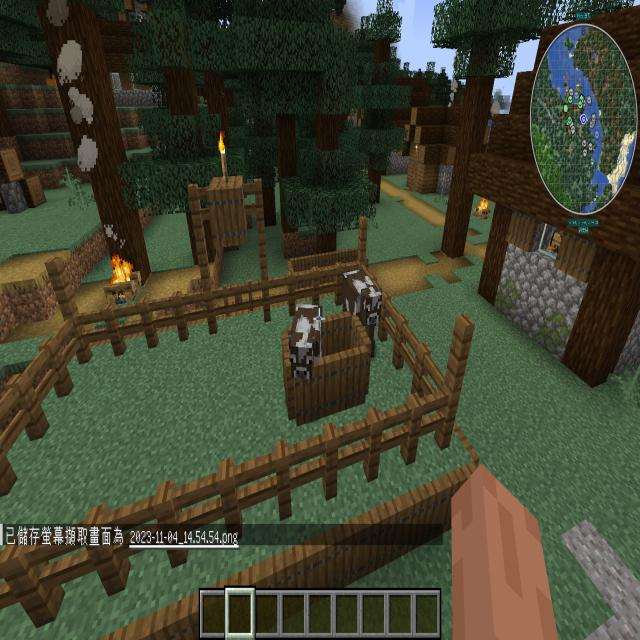cow: (274, 288, 335, 409), (332, 258, 389, 376)
